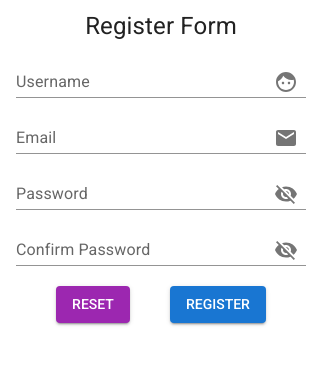
it: RegisterForm component › Reset button › clicking the reset button clears field values and errors
The width and height of the screenshot is (323, 388).
Step 1. Click the field labelled "Username" → click(137, 82), box [16,66,258,98]
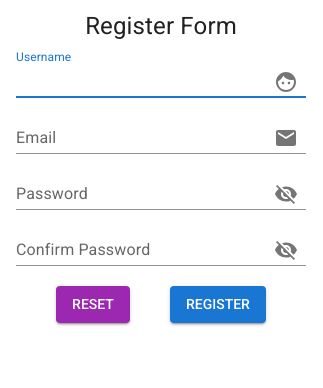
Step 2. Type "invalidEmail" into the field labelled "Email" → (137, 138), box [16,122,258,154]
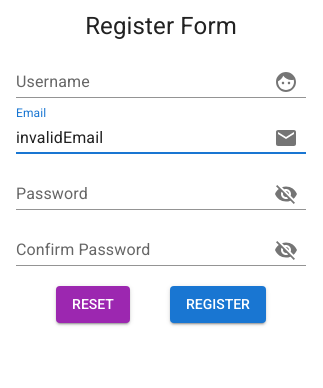
Step 3. Click the button "Register" → click(218, 304), box [170,286,266,322]
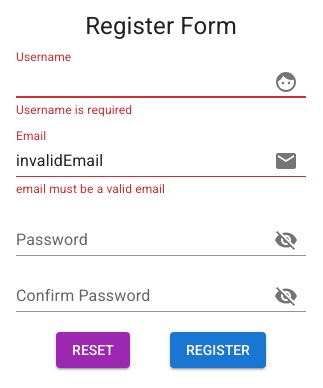
Check: the text "email must be a valid email" is shown, box [16,182,165,196]
Step 4. Click the button "Reset" → click(93, 350), box [56,332,130,368]
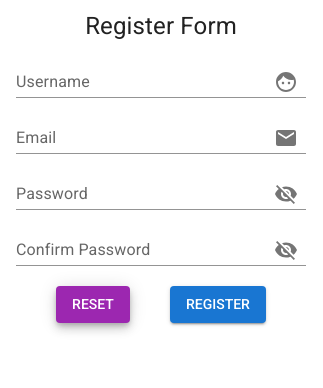
Check: the field labelled "Username" is empty, box [16,66,258,98]
Check: the field labelled "Email" is empty, box [16,122,258,154]
Check: the text "email must be a valid email" is gone
